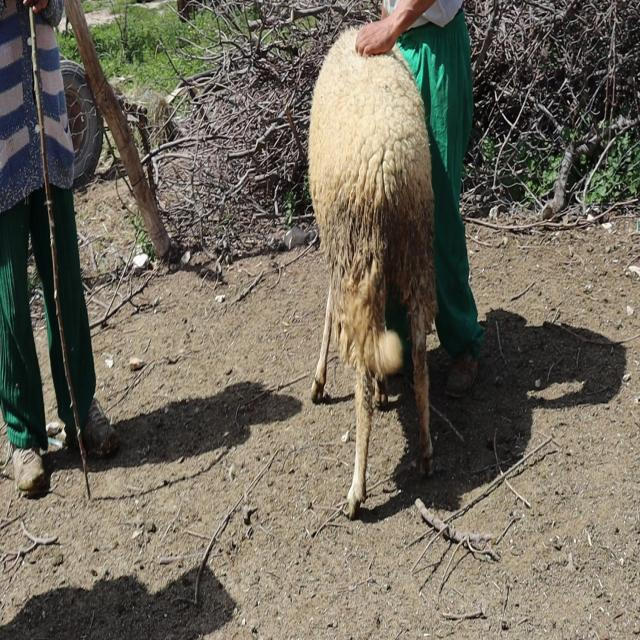Score_5: (308, 28, 437, 517)
